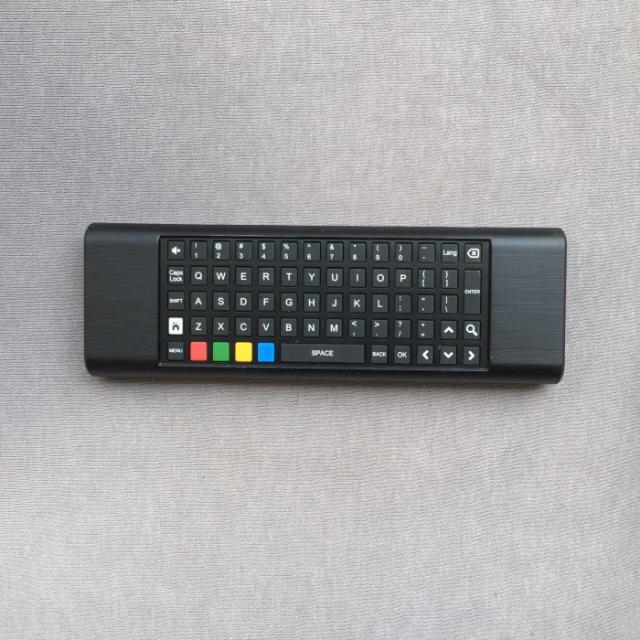remote: (83, 228, 572, 380)
